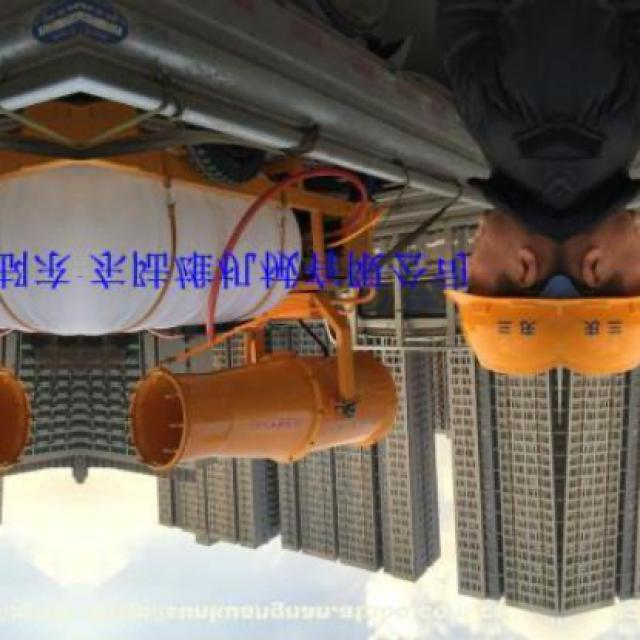con casco: (444, 191, 546, 387)
